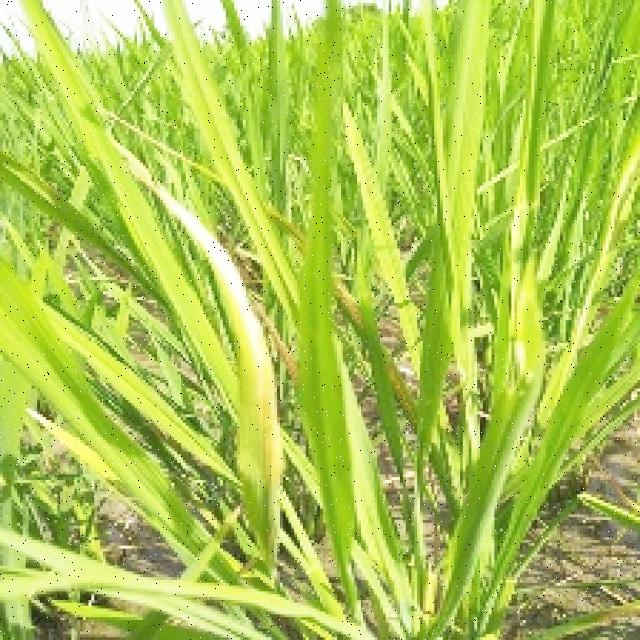unhealth: (162, 201, 287, 571)
